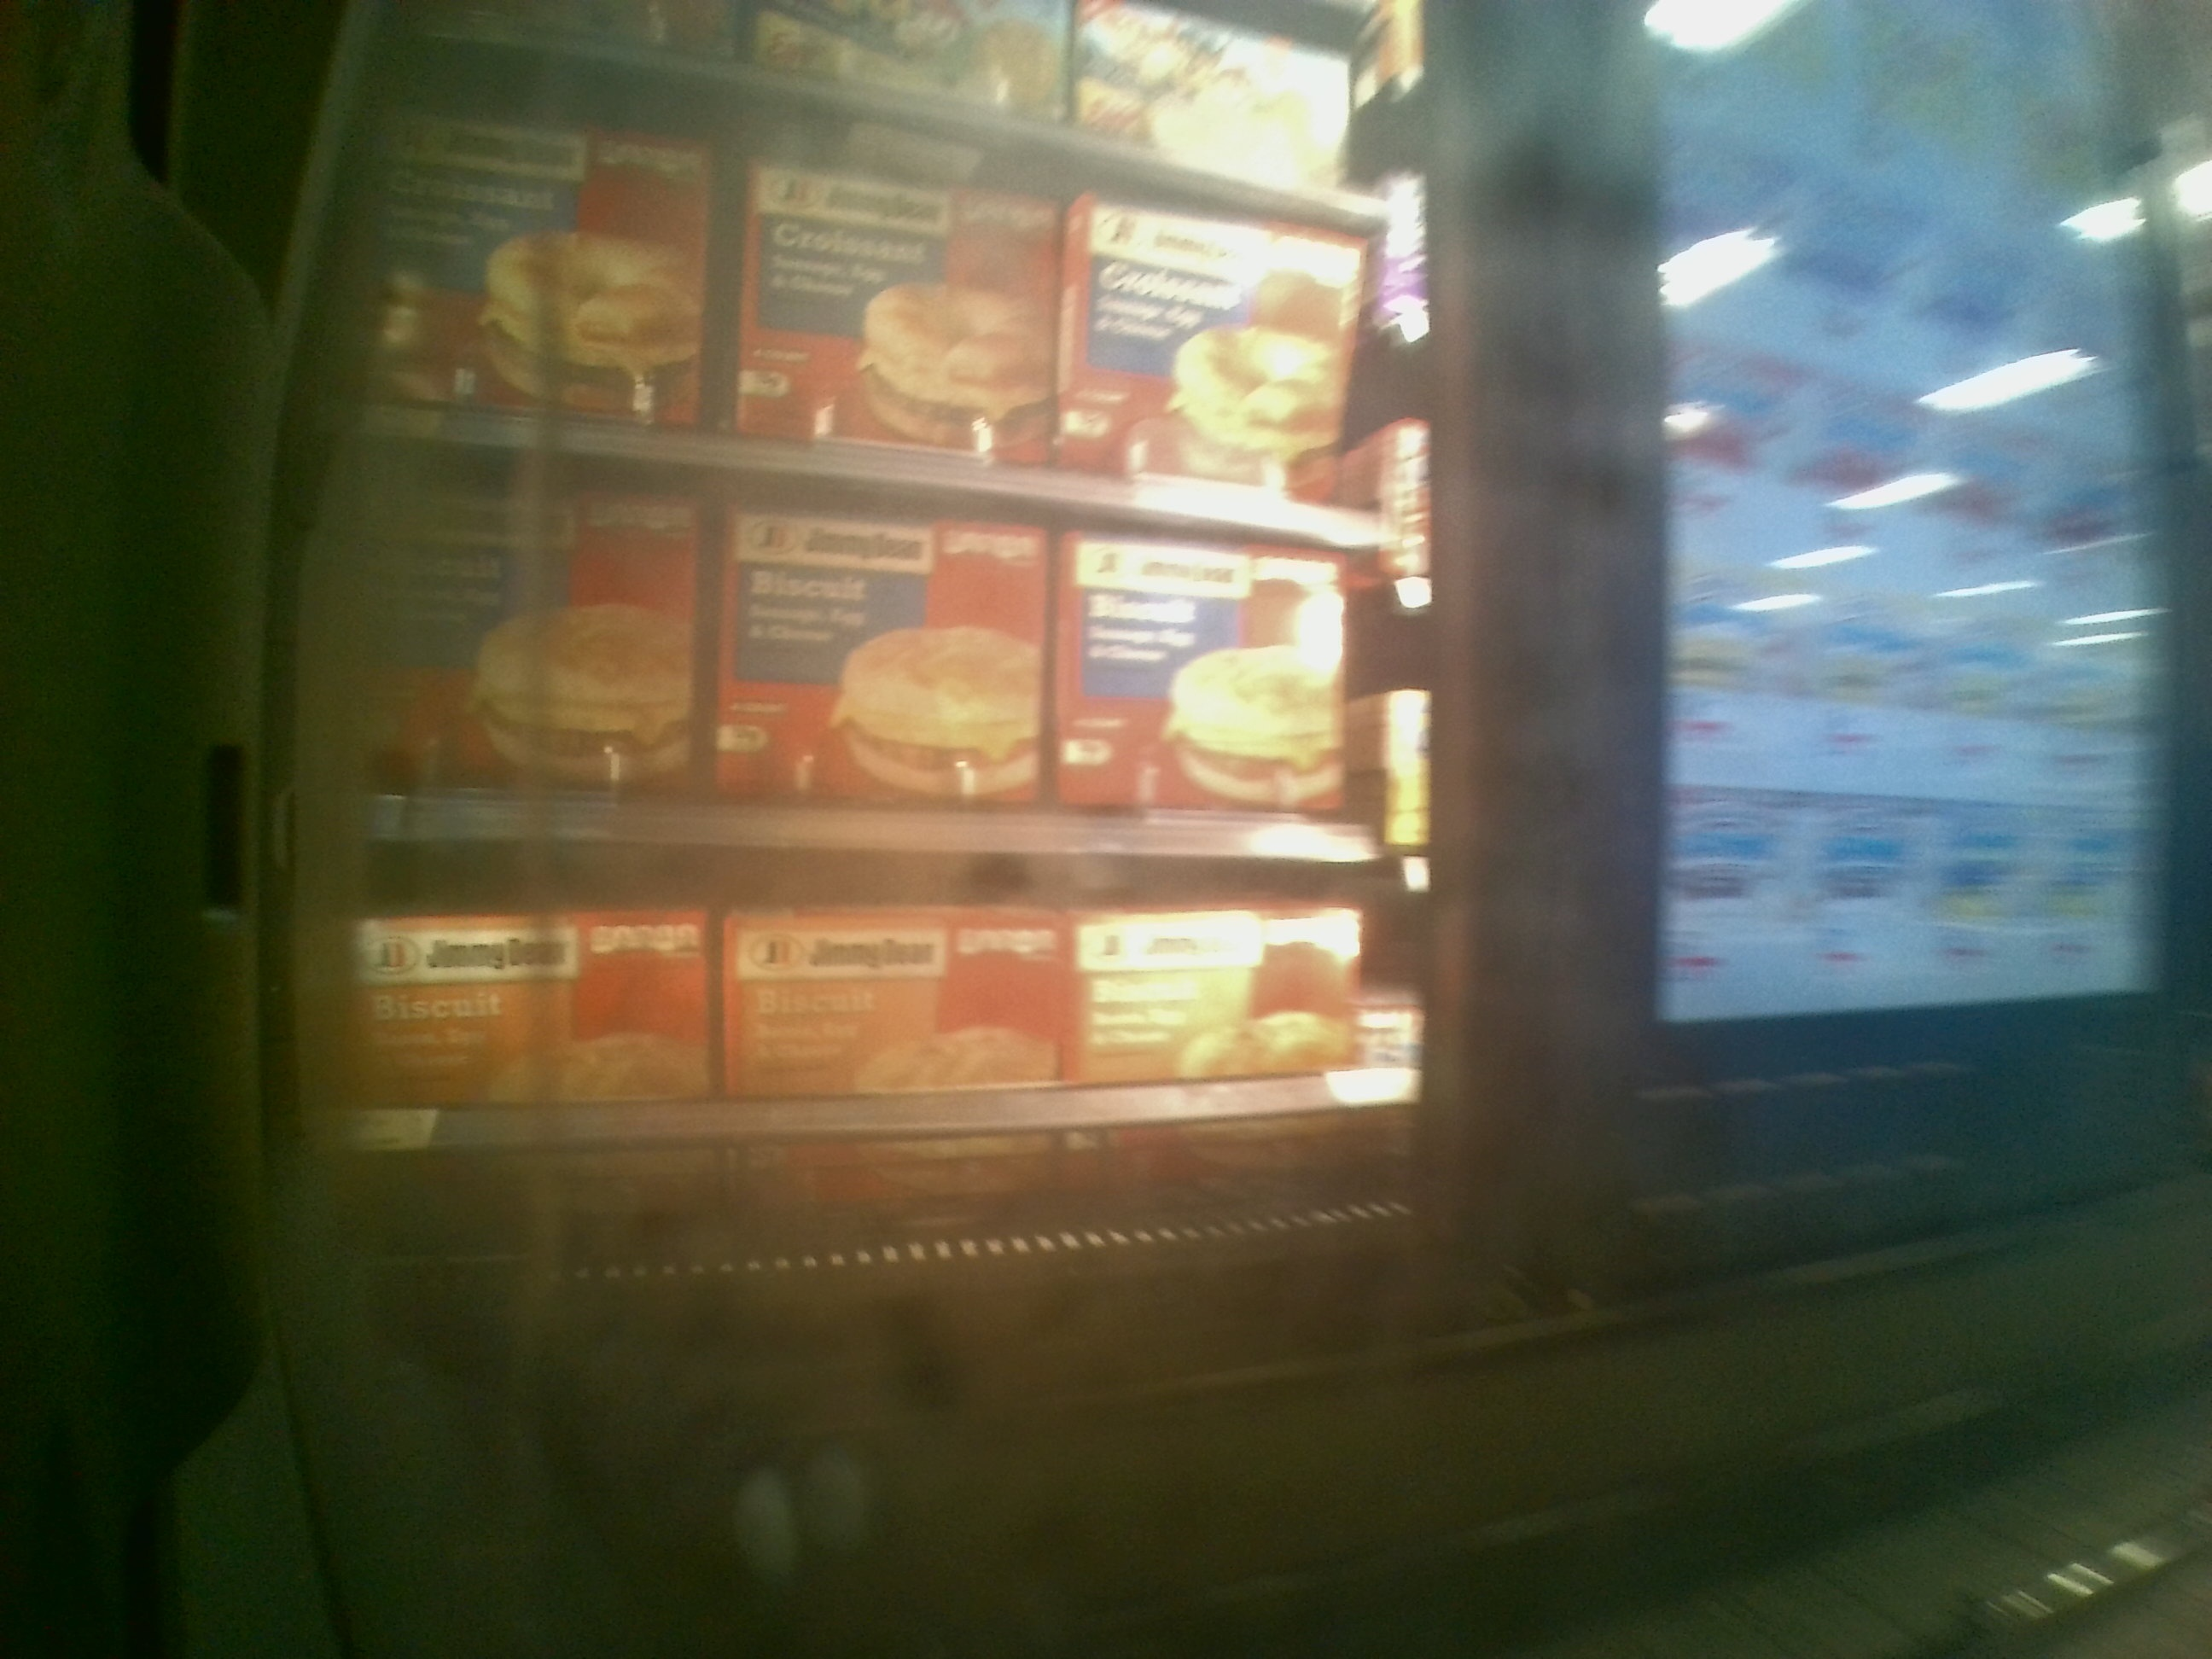shelf: (315, 420, 1399, 857), (320, 847, 1433, 1246)
